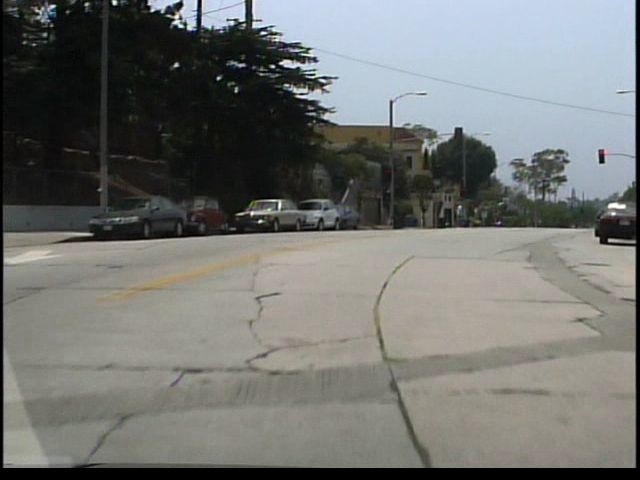person: (459, 203, 469, 230)
